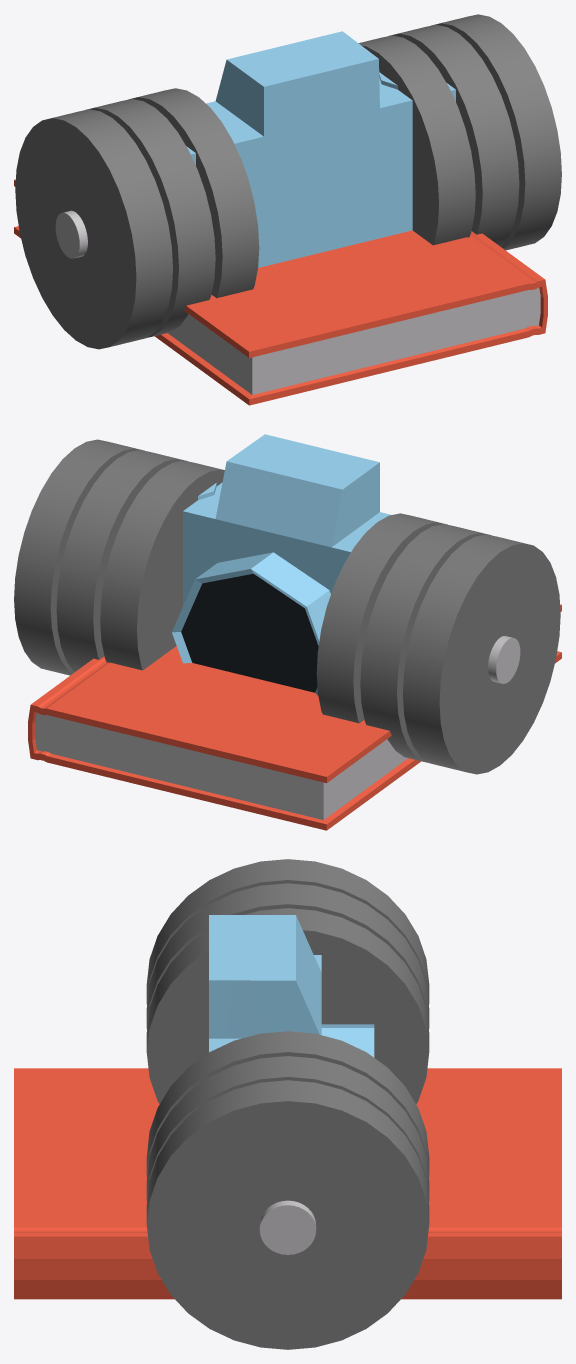
Rendered from Toys.fbx.
3 views of the same model, one above another, from view 1: azimuth 30°, elevation 25°; view 2: azimuth 150°, elevation 25°; view 3: azimuth 270°, elevation 25° (orthographic). The views are drawn at different scales.
Visible parts, largest first — view 1: Rubble, Book, Camera; view 2: Rubble, Book, Camera; view 3: Rubble, Book, Camera.
Part boxes in pixels (left/top/right/bottom): Rubble: left=15, top=14, right=561, bottom=349; Book: left=14, top=179, right=547, bottom=405; Camera: left=186, top=31, right=455, bottom=267; Rubble: left=14, top=439, right=560, bottom=774; Book: left=28, top=604, right=561, bottom=830; Camera: left=172, top=434, right=390, bottom=695; Rubble: left=146, top=859, right=429, bottom=1349; Book: left=14, top=1068, right=561, bottom=1299; Camera: left=209, top=915, right=374, bottom=1057.
Bounding box in the file's own units: 303 × 160 × 279.
